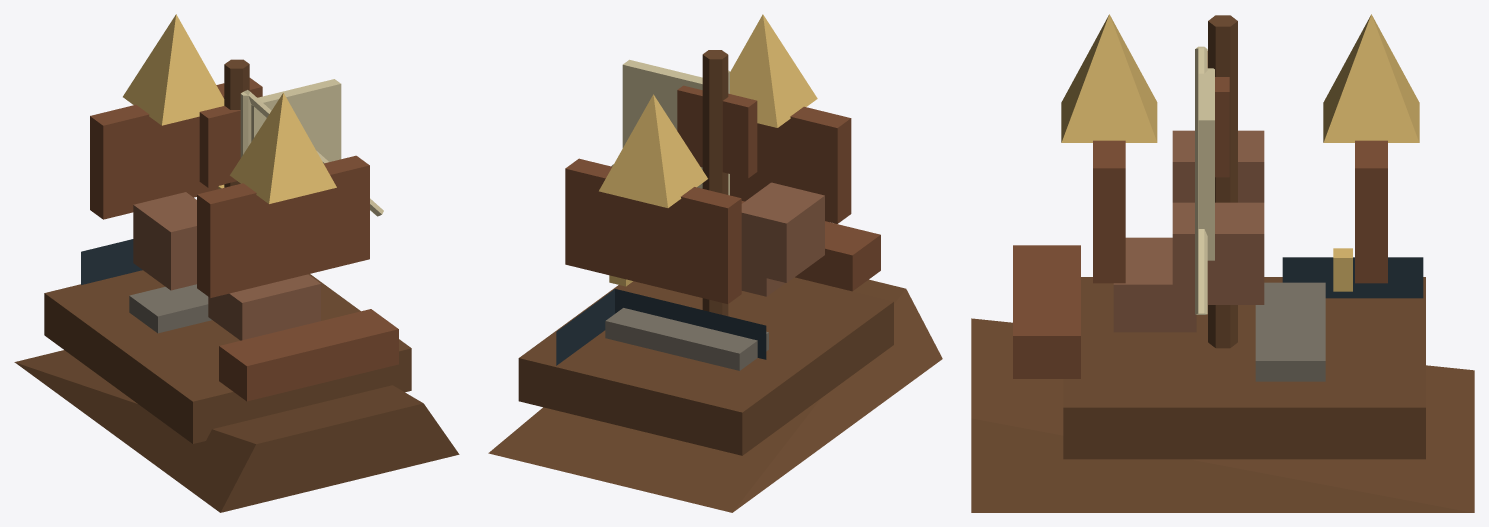
Rendered from legendary-warship.obj.
The picture shows the model from 3 angles, left to right: view 1: azimuth 30°, elevation 25°; view 2: azimuth 150°, elevation 25°; view 3: azimuth 270°, elevation 25°; orthographic projection. The views are drawn at different scales.
Parts seen in each view (by area): view 1: ship; view 2: ship; view 3: ship.
Part boxes in pixels (x1=…): ship: x1=14, y1=14, x2=459, y2=512; ship: x1=488, y1=14, x2=942, y2=512; ship: x1=971, y1=14, x2=1474, y2=512.
Bounding box in the file's own units: 1.66 × 2.16 × 2.31.
